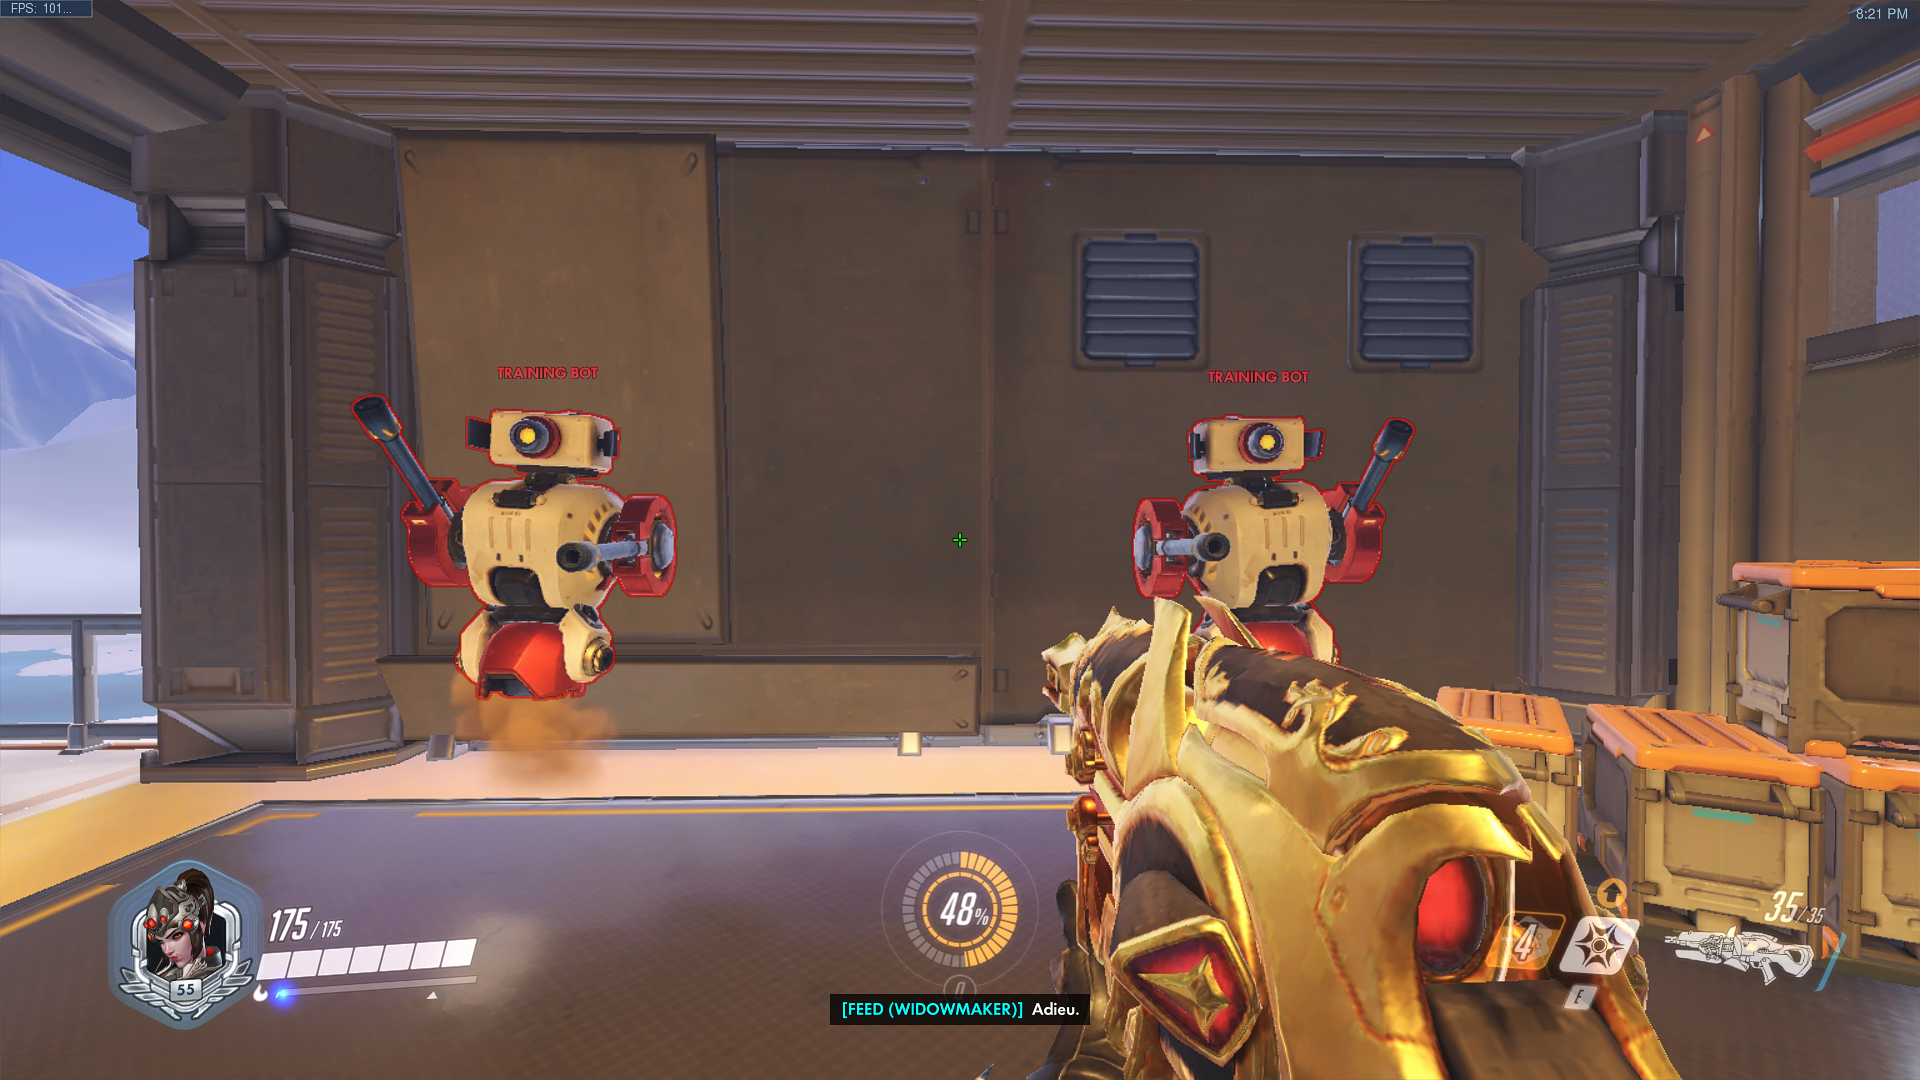head: (486, 415, 613, 476), (1187, 419, 1307, 469)
